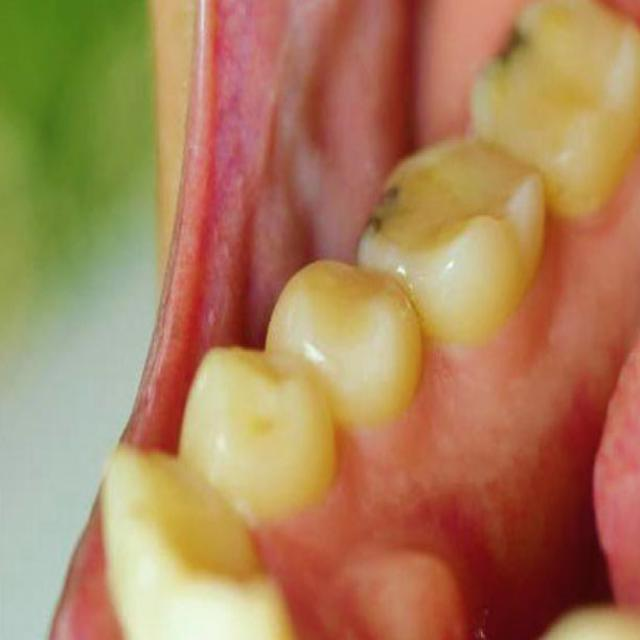caries: (354, 168, 411, 255), (486, 13, 538, 87)
